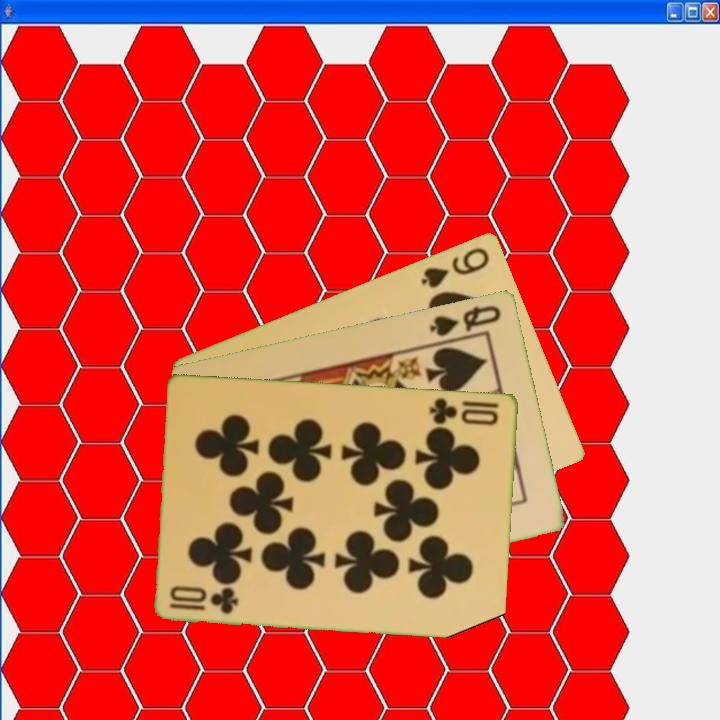10c: (166, 582, 242, 617), (426, 394, 501, 428)
9s: (417, 243, 493, 291)
Qs: (426, 301, 504, 339)
